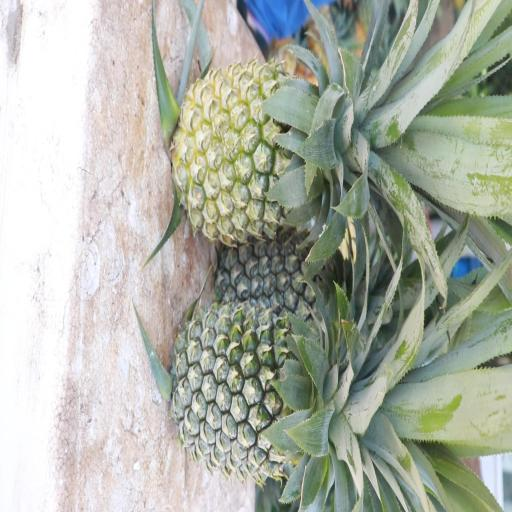Pineapple - v8 v1: (176, 52, 348, 238)
